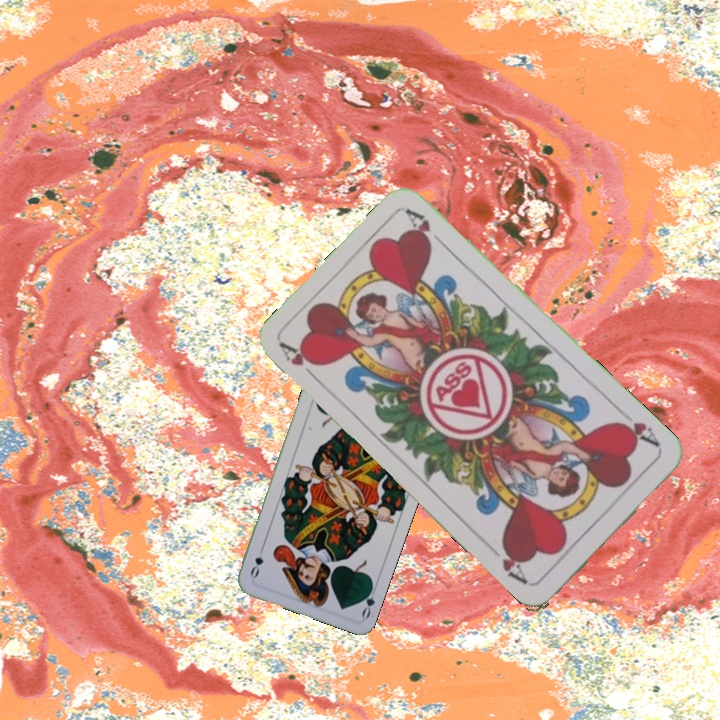GO: (357, 580, 380, 621)
HA: (276, 338, 323, 386), (612, 417, 663, 451)
